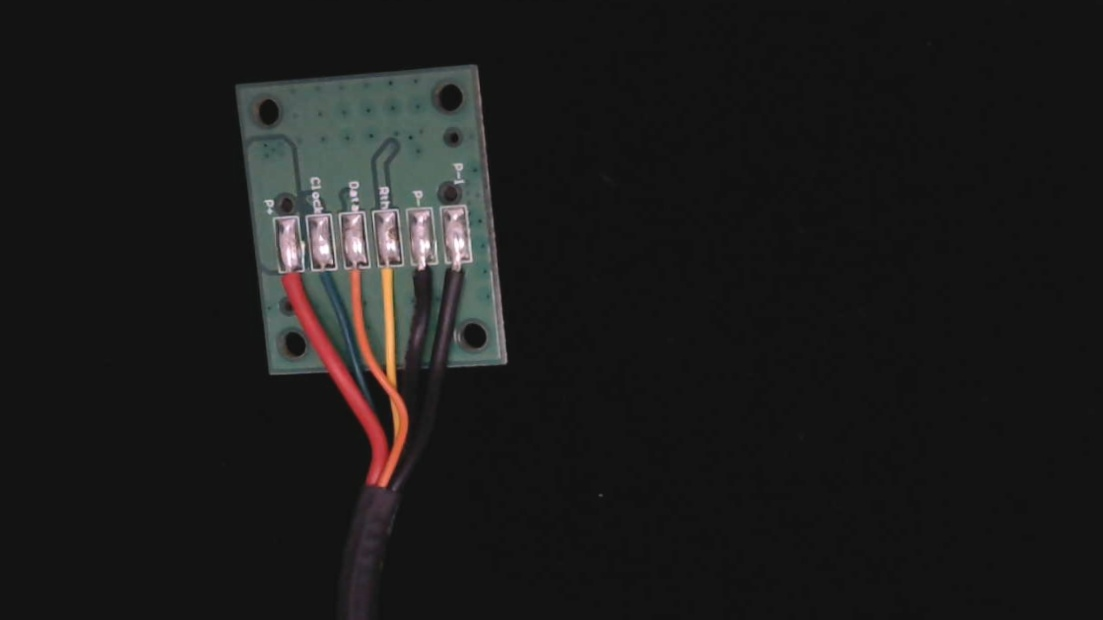Black: (401, 254, 426, 310)
Black1: (434, 254, 462, 308)
Green: (303, 262, 336, 302)
Orange: (335, 259, 363, 306)
Red: (269, 263, 303, 301)
Yellow: (368, 256, 395, 306)
